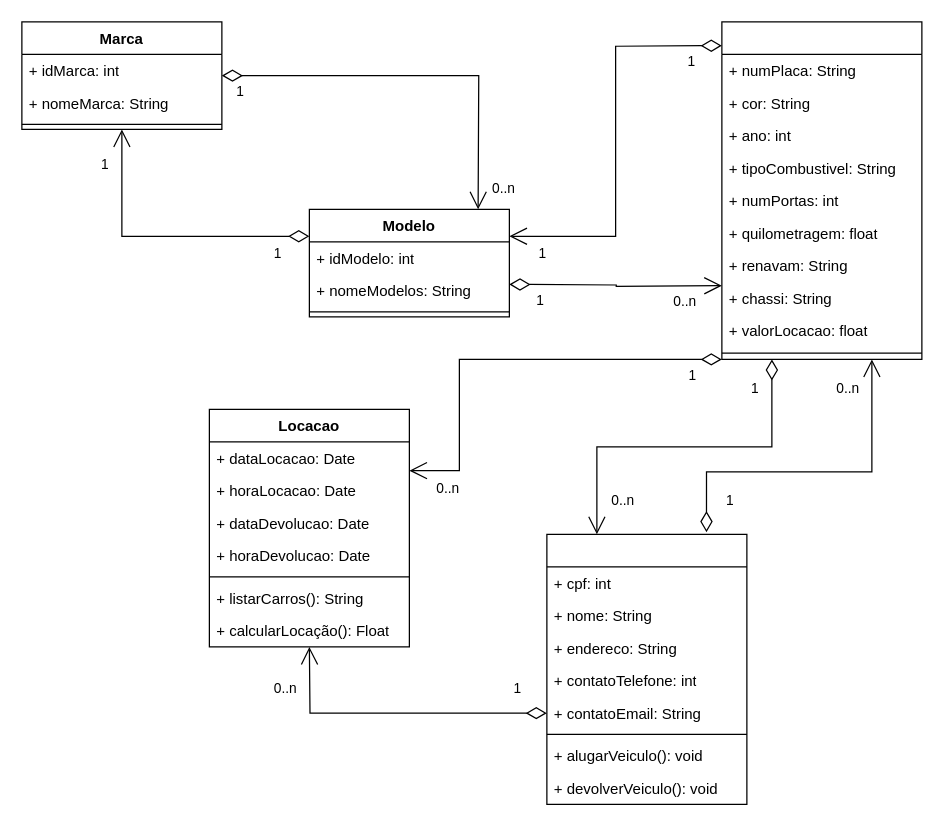
Image size: 944x830. Some labels were removed from this diagram. Each missing label, with the box of its shape:
Cliente: (546, 533, 747, 804)
Veiculo: (721, 21, 922, 359)
